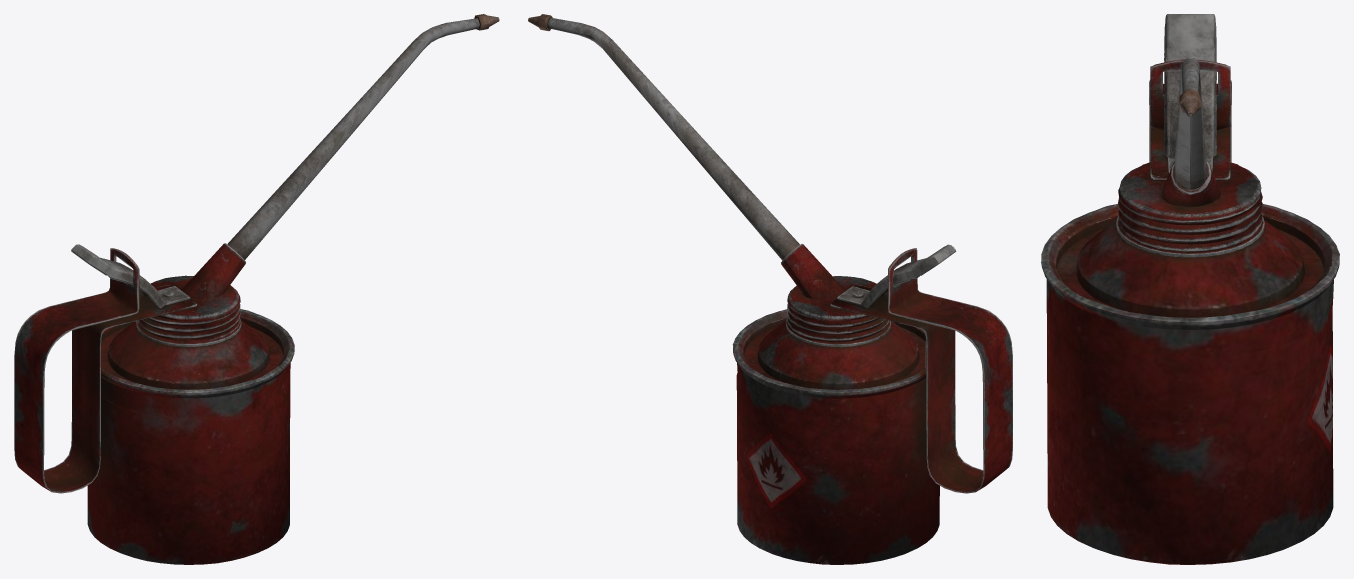
Rendered from yaglik.gltf.
3 renders of one model, left to right at view 1: azimuth 30°, elevation 25°; view 2: azimuth 150°, elevation 25°; view 3: azimuth 270°, elevation 25°, orthographic. The views are drawn at different scales.
Visible parts, largest first — view 1: yaglik; view 2: yaglik; view 3: yaglik.
Boxes of the visible parts, x1=… form: yaglik: x1=14, y1=14, x2=499, y2=564; yaglik: x1=528, y1=14, x2=1012, y2=564; yaglik: x1=1041, y1=14, x2=1339, y2=564.
Size of what is drawn, in the model's own units: 0.266 by 0.2367 by 0.1038.
1 material, 1 textured.
